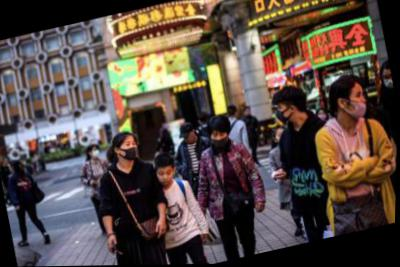NONE: (158, 168, 178, 188), (183, 133, 196, 145), (245, 109, 253, 117)
OK: (120, 138, 142, 163), (381, 70, 395, 94), (276, 103, 292, 124), (92, 146, 103, 159), (319, 111, 329, 122)
WRONG: (348, 88, 371, 121), (210, 128, 232, 151)
